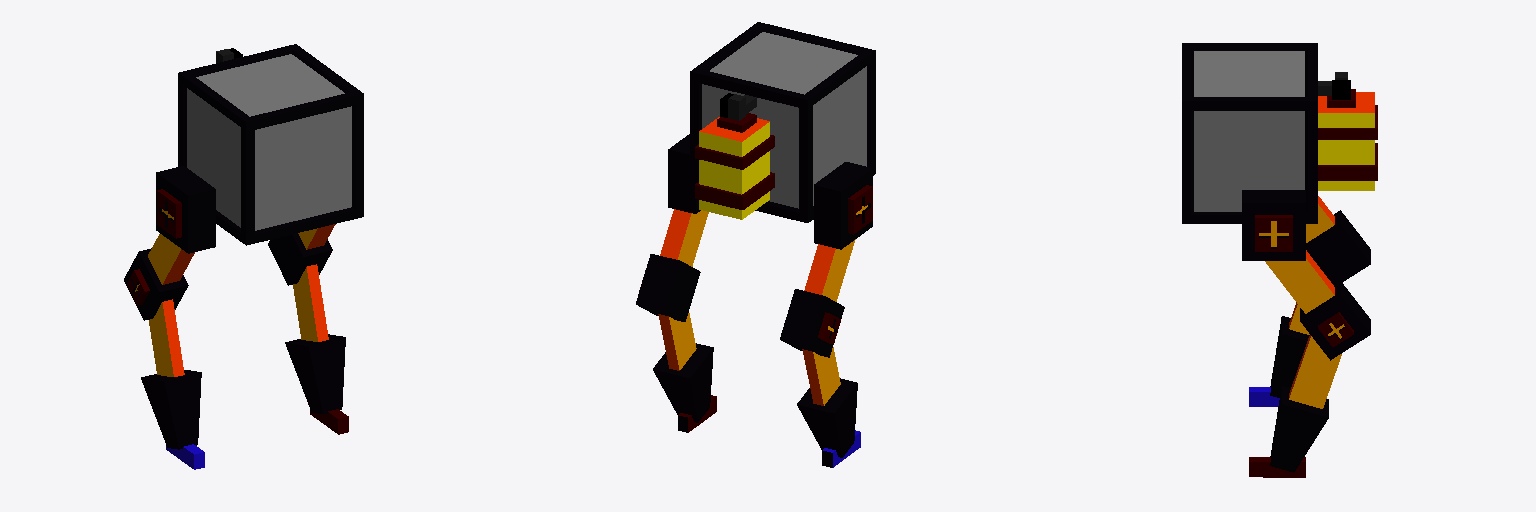
The model's file is FishExportTest.obj.
3 renders of one model, left to right at view 1: azimuth 30°, elevation 25°; view 2: azimuth 150°, elevation 25°; view 3: azimuth 270°, elevation 25°, orthographic.
Parts seen in each view (by area): view 1: FishColored_BestPivots:FishColored_1:FishGame_2:pCube45, FishColored_BestPivots:polySurface18 FishColored_BestPivots:poly, FishColored_BestPivots:polySurface20 FishColored_BestPivots:poly, FishColored_BestPivots:polySurface10, FishColored_BestPivots:polySurface8 FishColored_BestPivots:polyS, FishColored_BestPivots:polySurface1 FishColored_BestPivots:polyS; view 2: FishColored_BestPivots:FishColored_1:FishGame_2:pCube45, FishColored_BestPivots:polySurface18 FishColored_BestPivots:poly, FishColored_BestPivots:polySurface20 FishColored_BestPivots:poly, FishColored_BestPivots:polySurface10, FishColored_BestPivots:polySurface14; view 3: FishColored_BestPivots:FishColored_1:FishGame_2:pCube45, FishColored_BestPivots:polySurface20 FishColored_BestPivots:poly, FishColored_BestPivots:polySurface14, FishColored_BestPivots:polySurface18 FishColored_BestPivots:poly, FishColored_BestPivots:polySurface1 FishColored_BestPivots:polyS, FishColored_BestPivots:polySurface10.
Part boxes in pixels (left/top/right/bottom): FishColored_BestPivots:FishColored_1:FishGame_2:pCube45: left=178, top=44, right=363, bottom=245; FishColored_BestPivots:polySurface18 FishColored_BestPivots:poly: left=124, top=248, right=201, bottom=449; FishColored_BestPivots:polySurface20 FishColored_BestPivots:poly: left=268, top=233, right=345, bottom=414; FishColored_BestPivots:polySurface10: left=148, top=166, right=215, bottom=284; FishColored_BestPivots:polySurface8 FishColored_BestPivots:polyS: left=166, top=444, right=204, bottom=469; FishColored_BestPivots:polySurface1 FishColored_BestPivots:polyS: left=310, top=409, right=348, bottom=434; FishColored_BestPivots:FishColored_1:FishGame_2:pCube45: left=690, top=22, right=875, bottom=222; FishColored_BestPivots:polySurface18 FishColored_BestPivots:poly: left=780, top=289, right=857, bottom=457; FishColored_BestPivots:polySurface20 FishColored_BestPivots:poly: left=636, top=254, right=713, bottom=422; FishColored_BestPivots:polySurface10: left=804, top=162, right=872, bottom=301; FishColored_BestPivots:polySurface14: left=660, top=134, right=708, bottom=266; FishColored_BestPivots:FishColored_1:FishGame_2:pCube45: left=1182, top=43, right=1377, bottom=223; FishColored_BestPivots:polySurface20 FishColored_BestPivots:poly: left=1270, top=280, right=1370, bottom=472; FishColored_BestPivots:polySurface14: left=1242, top=190, right=1334, bottom=313; FishColored_BestPivots:polySurface18 FishColored_BestPivots:poly: left=1270, top=210, right=1370, bottom=397; FishColored_BestPivots:polySurface1 FishColored_BestPivots:polyS: left=1249, top=457, right=1305, bottom=477; FishColored_BestPivots:polySurface10: left=1306, top=196, right=1334, bottom=242.
Size of the model in its own units: 24.81 by 47.21 by 22.87.